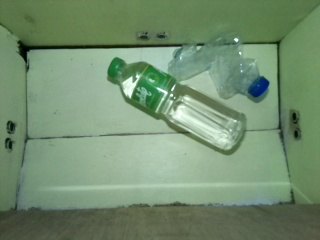bottle: (106, 55, 248, 154)
damaged-bottle: (168, 32, 271, 103)
